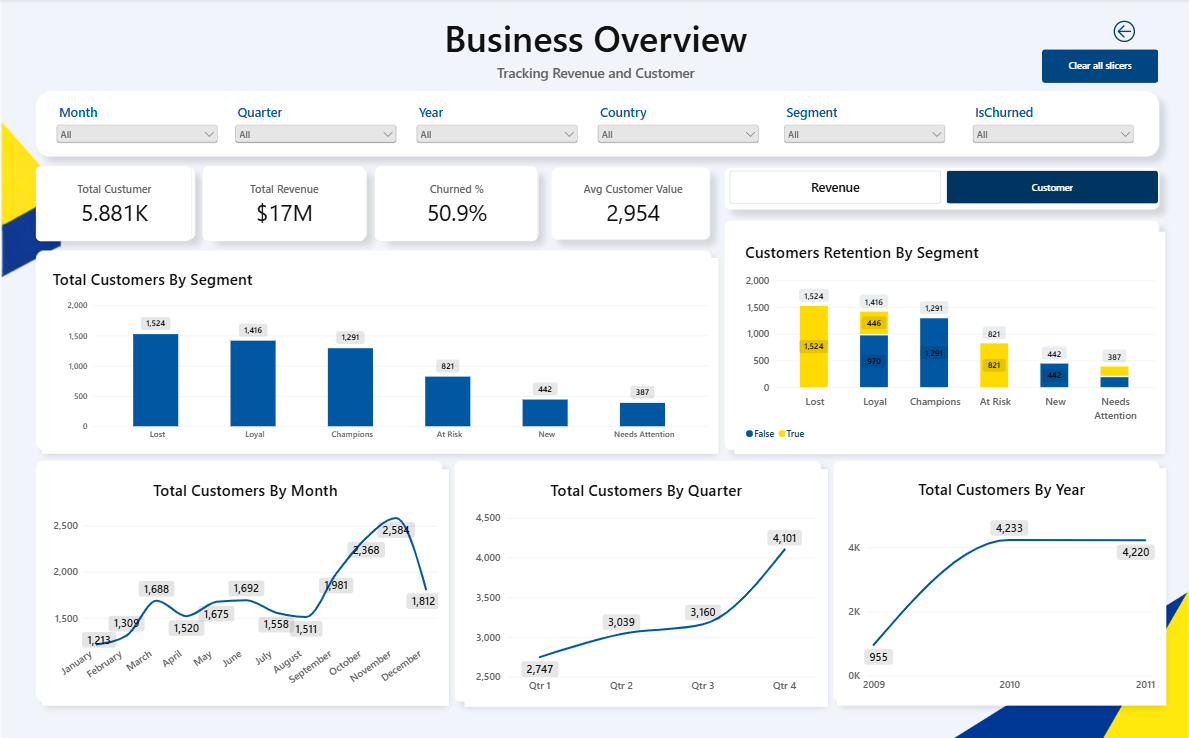

The page's visual inventory and layout, read from the dashboard file:
{"tool":"powerbi","page":{"name":"RFM Analysis","canvas":[2000,1100],"ordinal":2},"visuals":[{"type":"slicer","fields":{"Values":["Sheet1.InvoiceMonth.Variation.Date Hierarchy.Month"]},"box":[200.6,155.6,247.5,67.5],"z":0},{"type":"pivotTable","title":"Country Performance Summary","fields":{"Rows":["Sheet1.Country"],"Values":["Sheet1.Total Custumer","Sheet1.Total Revenue","Avg(Sheet1.R_Score)","Avg(Sheet1.F_Score)","Avg(Sheet1.M_Score)"]},"box":[185.1,264.4,999,411],"z":0,"group":"g3"},{"type":"columnChart","title":"Total Customers By Segment","fields":{"Category":["Sheet1.Segment"],"Y":["Sheet1.Total Custumer"]},"box":[184.4,385,997.4,288.7],"z":0,"group":"g2"},{"type":"lineChart","title":"Churned % By Year","fields":{"Category":["Sheet1.InvoiceDate.Variation.Date Hierarchy.Year"],"Y":["Sheet1.Churned %"]},"box":[1346.1,684.3,485.6,350.6],"z":0,"group":"g1"},{"type":"slicer","fields":{"Values":["Sheet1.InvoiceMonth.Variation.Date Hierarchy.Quarter"]},"box":[464.9,155.6,247.5,67.5],"z":1000},{"type":"columnChart","title":"Top 5 Countries by Avg Customer Value","fields":{"Category":["Sheet1.Country"],"Y":["Sheet1.Avg Customer Value"]},"box":[1208.1,343.7,634.1,331.8],"z":1000,"group":"g3"},{"type":"columnChart","title":"Customers Retention By Segment","fields":{"Category":["Sheet1.Segment"],"Series":["Sheet1.IsChurned"],"Y":["Sheet1.Total Custumer"]},"box":[1206.2,345.6,635.5,328.1],"z":1000,"group":"g2"},{"type":"lineChart","title":"Churned % By Quarter","fields":{"Category":["Sheet1.InvoiceDate.Variation.Date Hierarchy.Quarter"],"Y":["Sheet1.Churned %"]},"box":[796.8,686.2,536.2,350.6],"z":1000,"group":"g1"},{"type":"slicer","fields":{"Values":["Sheet1.InvoiceMonth.Variation.Date Hierarchy.Year"]},"box":[731.2,155.6,247.5,76.9],"z":2000},{"type":"lineChart","title":"Churned % By Month","fields":{"Category":["Sheet1.InvoiceDate.Variation.Date Hierarchy.Month"],"Y":["Sheet1.Churned %"]},"box":[174.4,686.2,599.9,348.7],"z":2000,"group":"g1"},{"type":"lineChart","title":"Churned % By Year","fields":{"Category":["Sheet1.InvoiceDate.Variation.Date Hierarchy.Year"],"Y":["Sheet1.Churned %"]},"box":[1356.1,694.3,485.6,350.6],"z":2000,"group":"g2"},{"type":"slicer","fields":{"Values":["Sheet1.Country"]},"box":[999.3,155.6,247.5,67.5],"z":3000},{"type":"lineChart","title":"Churned % By Quarter","fields":{"Category":["Sheet1.InvoiceDate.Variation.Date Hierarchy.Quarter"],"Y":["Sheet1.Churned %"]},"box":[806.8,696.2,536.2,350.6],"z":3000,"group":"g2"},{"type":"slicer","fields":{"Values":["Sheet1.Segment"]},"box":[1273,155.6,247.5,67.5],"z":4000},{"type":"lineChart","title":"Churned % By Month","fields":{"Category":["Sheet1.InvoiceDate.Variation.Date Hierarchy.Month"],"Y":["Sheet1.Churned %"]},"box":[184.4,696.2,599.9,348.7],"z":4000,"group":"g2"},{"type":"slicer","fields":{"Values":["Sheet1.IsChurned"]},"box":[1552.3,155.6,247.5,67.5],"z":5000},{"type":"group","id":"g1","title":"Revenue","box":[174.4,684.3,1657.3,352.5],"z":6000},{"type":"group","id":"g2","title":"Customer","box":[184.4,345.6,1657.3,701.2],"z":7000},{"type":"bookmarkNavigator","box":[1198.1,254.4,632.2,49.8],"z":8000},{"type":"textbox","title":"RFM Analysis","box":[443.4,22.1,1113.3,105.1],"z":9000},{"type":"actionButton","box":[1730.7,22.1,99.5,53.5],"z":10000},{"type":"actionButton","box":[1658.9,75.6,171.4,49.8],"z":11000},{"type":"group","id":"g3","title":"Group 2","box":[185.1,264.4,1657,411],"z":13000},{"type":"bookmarkNavigator","box":[1197.4,254.7,631.8,50.1],"z":14000}]}

Visuals, with their boxes on the page's 2000x1100 design canvas (x1, y1, x2, y2). These are canvas units, not pixel positions in the 1189x738 screenshot, which may show the page scaled, cropped or inside an application window:
slicer - Sheet1.InvoiceMonth.Variation.Date Hierarchy.Month: 201,156,448,223
"Country Performance Summary" pivotTable: 185,264,1184,675
"Total Customers By Segment" columnChart: 184,385,1182,674
"Churned % By Year" lineChart: 1346,684,1832,1035
slicer - Sheet1.InvoiceMonth.Variation.Date Hierarchy.Quarter: 465,156,712,223
"Top 5 Countries by Avg Customer Value" columnChart: 1208,344,1842,676
"Customers Retention By Segment" columnChart: 1206,346,1842,674
"Churned % By Quarter" lineChart: 797,686,1333,1037
slicer - Sheet1.InvoiceMonth.Variation.Date Hierarchy.Year: 731,156,979,232
"Churned % By Month" lineChart: 174,686,774,1035
"Churned % By Year" lineChart: 1356,694,1842,1045
slicer - Sheet1.Country: 999,156,1247,223
"Churned % By Quarter" lineChart: 807,696,1343,1047
slicer - Sheet1.Segment: 1273,156,1520,223
"Churned % By Month" lineChart: 184,696,784,1045
slicer - Sheet1.IsChurned: 1552,156,1800,223
"Revenue" group: 174,684,1832,1037
"Customer" group: 184,346,1842,1047
bookmarkNavigator: 1198,254,1830,304
"RFM Analysis" textbox: 443,22,1557,127
actionButton: 1731,22,1830,76
actionButton: 1659,76,1830,125
"Group 2" group: 185,264,1842,675
bookmarkNavigator: 1197,255,1829,305
